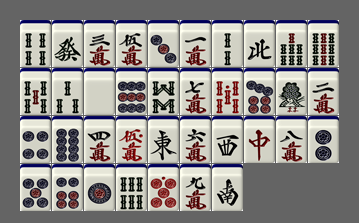0m: (116, 116, 147, 163)
0p: (148, 164, 179, 211)
0s: (212, 68, 243, 115)
1m: (180, 20, 211, 67)
1p: (84, 164, 115, 211)
1s: (276, 68, 307, 115)
1z: (148, 116, 179, 163)
2m: (308, 68, 339, 115)
2p: (308, 116, 339, 163)
2s: (212, 20, 243, 67)
2z: (212, 164, 243, 211)
3m: (84, 20, 115, 67)
3p: (148, 20, 179, 67)
3s: (52, 68, 83, 115)
3z: (212, 116, 243, 163)
4m: (84, 116, 115, 163)
4p: (20, 116, 51, 163)
4s: (20, 20, 51, 67)
4z: (244, 20, 275, 67)
5m: (116, 20, 147, 67)
5p: (20, 164, 51, 211)
5s: (20, 68, 51, 115)
5z: (84, 68, 115, 115)
6m: (180, 116, 211, 163)
6p: (52, 164, 83, 211)
6s: (116, 164, 147, 211)
6z: (52, 20, 83, 67)
7m: (180, 68, 211, 115)
7p: (244, 68, 275, 115)
7s: (276, 20, 307, 67)
7z: (244, 116, 275, 163)
8m: (276, 116, 307, 163)
8p: (52, 116, 83, 163)
8s: (148, 68, 179, 115)
9m: (180, 164, 211, 211)
9p: (116, 68, 147, 115)
9s: (308, 20, 339, 67)
